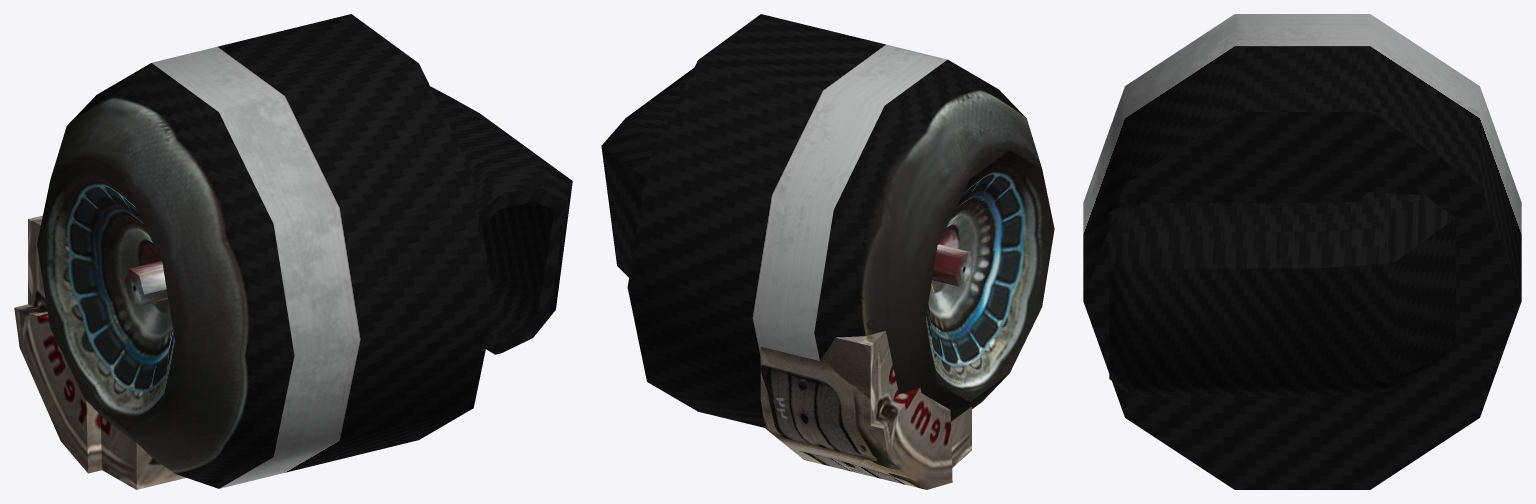
Rendered from FerrariF2007_BrakeFR.glb.
3 renders of one model, left to right at view 1: azimuth 30°, elevation 25°; view 2: azimuth 150°, elevation 25°; view 3: azimuth 270°, elevation 25°, orthographic. The views are drawn at different scales.
Visible parts, largest first — view 1: fer_brake_fr; view 2: fer_brake_fr; view 3: fer_brake_fr.
Part boxes in pixels (x1=…): fer_brake_fr: x1=14, y1=14, x2=572, y2=489; fer_brake_fr: x1=601, y1=14, x2=1054, y2=489; fer_brake_fr: x1=1083, y1=14, x2=1521, y2=489.
Size of the model in its own units: 0.2759 by 0.2695 by 0.2732.
1 material, 1 textured.
